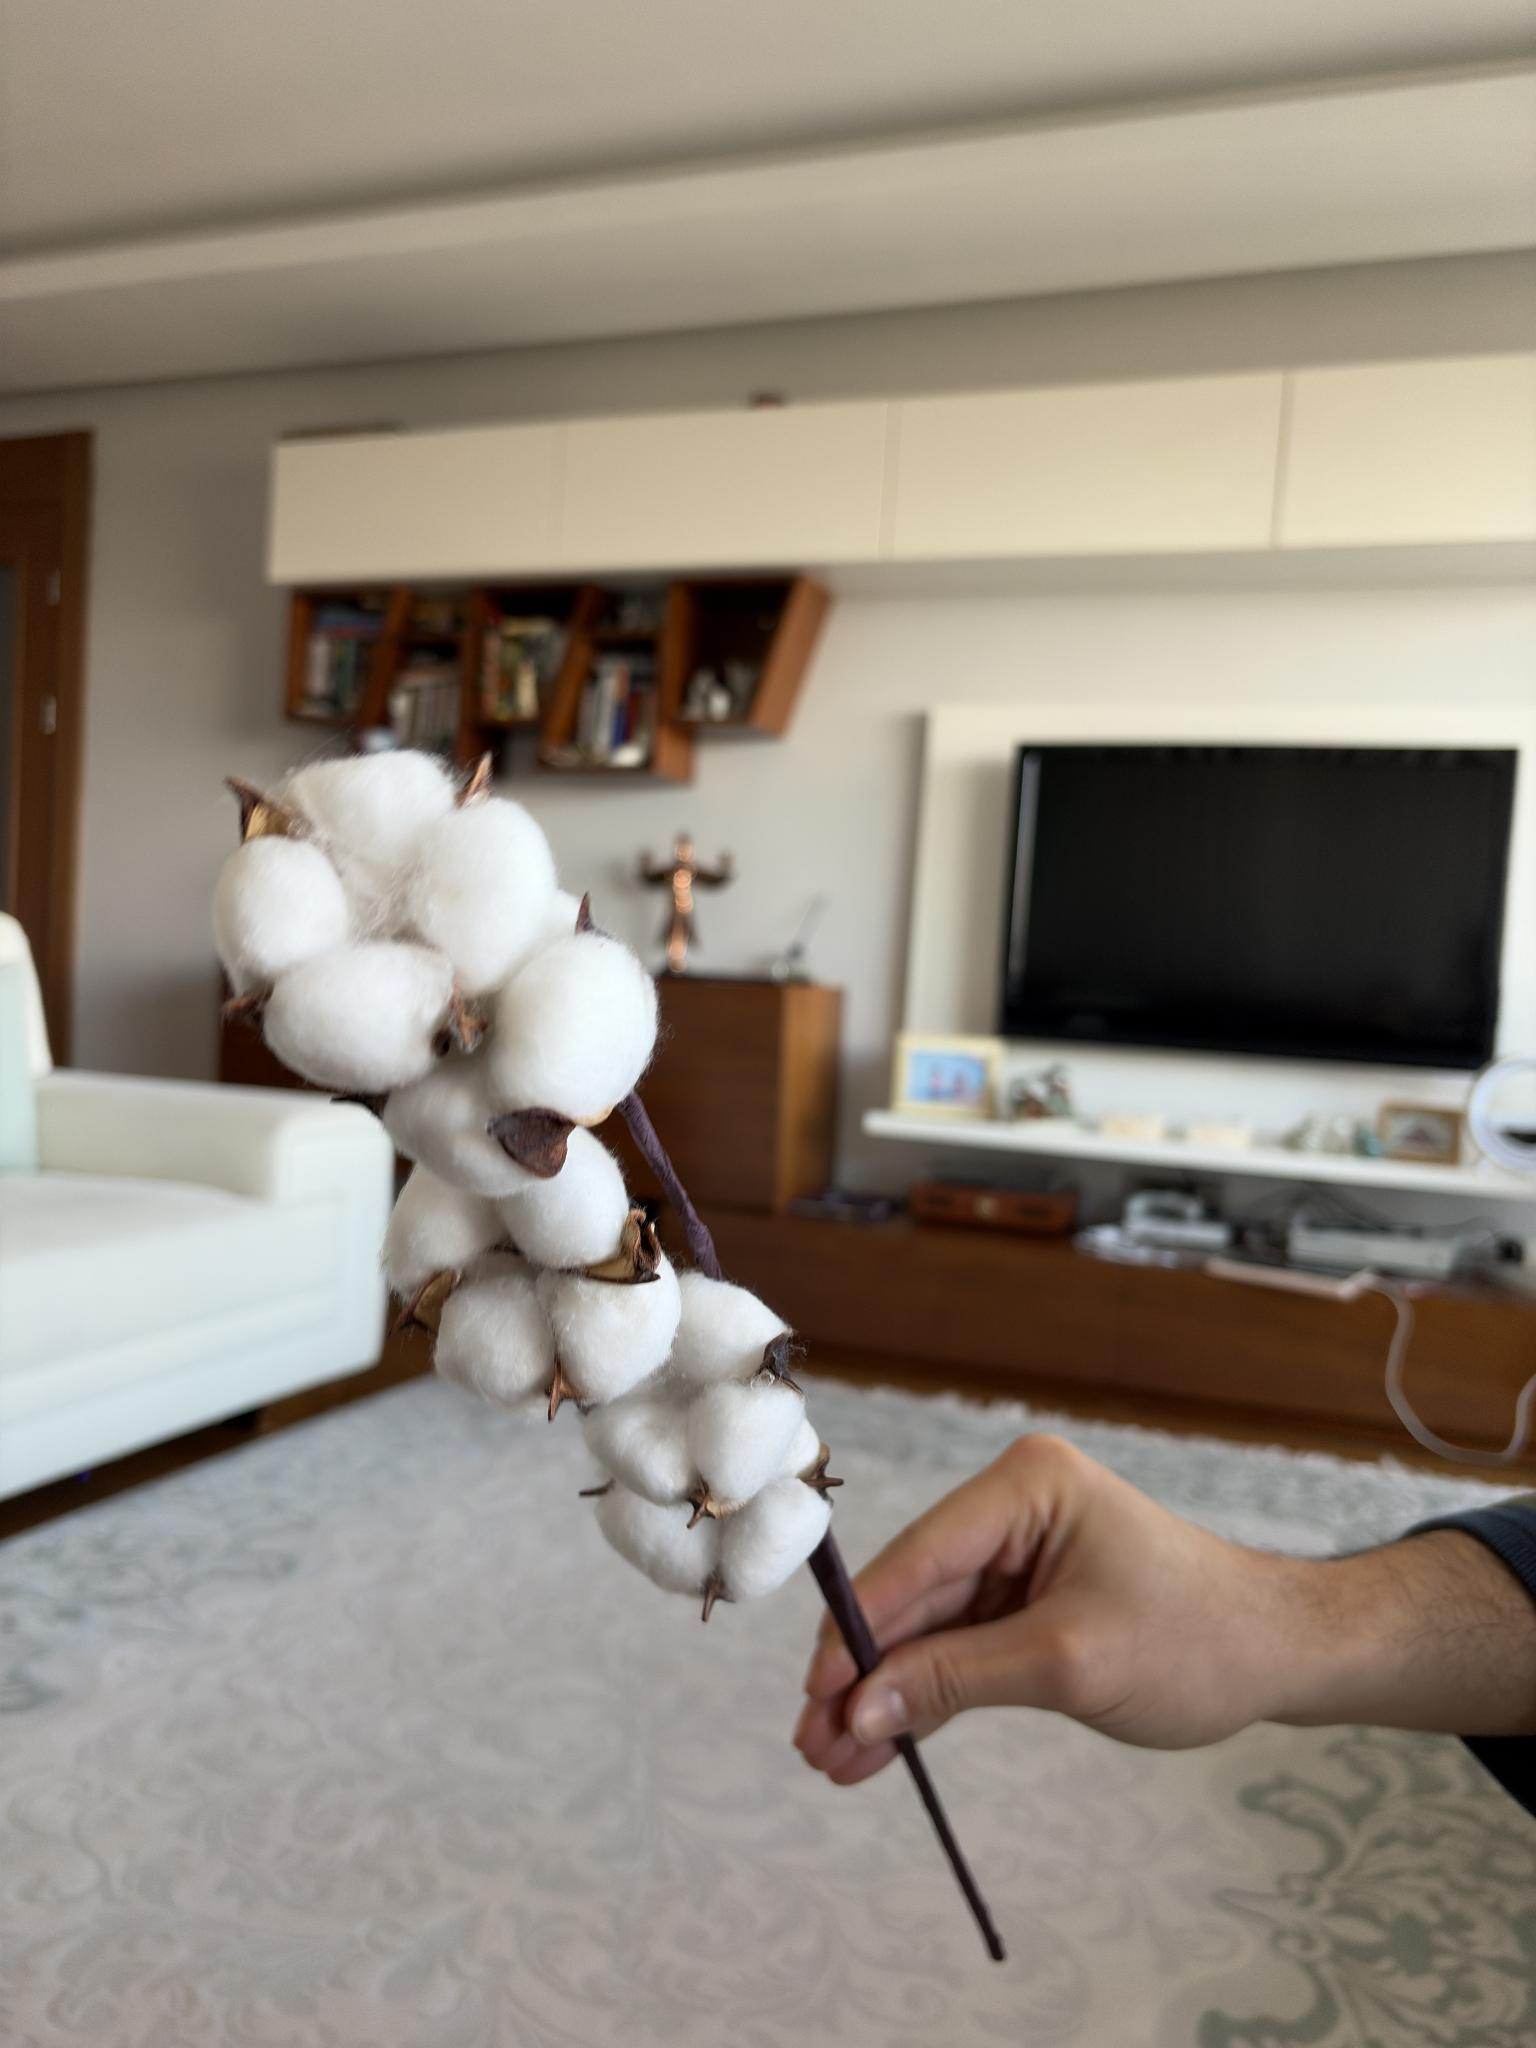cotton_boll: (489, 932, 657, 1122), (284, 751, 455, 929), (407, 797, 557, 995), (265, 942, 453, 1095), (382, 1051, 536, 1198), (213, 834, 352, 993), (537, 1255, 681, 1405), (499, 1127, 632, 1269), (434, 1253, 555, 1409), (687, 1372, 805, 1519), (384, 1164, 503, 1297), (668, 1271, 789, 1387), (595, 1485, 723, 1595), (721, 1477, 831, 1600), (584, 1392, 697, 1505), (774, 1419, 828, 1477), (537, 889, 581, 947)
cotton_boll-cluster: (219, 734, 658, 1201), (378, 1121, 682, 1416), (568, 1271, 808, 1516), (566, 1400, 837, 1605)
